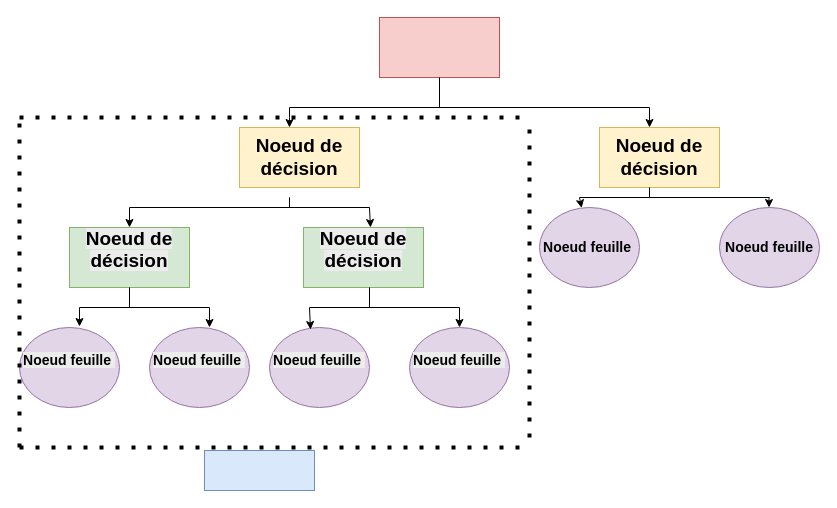
This 837x508 diagram has some shape labels left out. The shapes that lost their labels are listed below. From the top down, each one's centre as x and y in pixels, then its label:
At pixel 439 47: "Noeud racine".
At pixel 259 470: "Branche".
